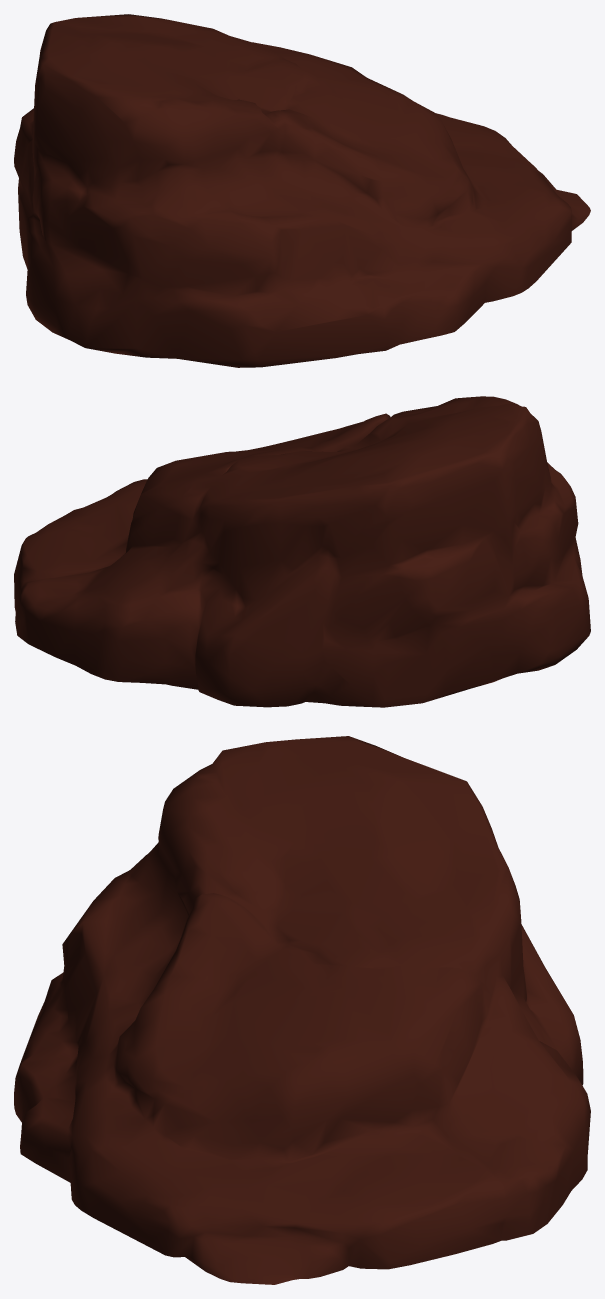
Rendered from Nature_Small_Rock3.FBX.
3 renders of one model, top to bottom at view 1: azimuth 30°, elevation 25°; view 2: azimuth 150°, elevation 25°; view 3: azimuth 270°, elevation 25°, orthographic. The views are drawn at different scales.
Parts seen in each view (by area): view 1: Rock_Small3; view 2: Rock_Small3; view 3: Rock_Small3.
Part boxes in pixels (x1,y1,x2,y2): Rock_Small3: (14, 14, 590, 367); Rock_Small3: (14, 396, 590, 707); Rock_Small3: (14, 736, 590, 1284).
Bounding box in the file's own units: 274 × 112 × 219.
